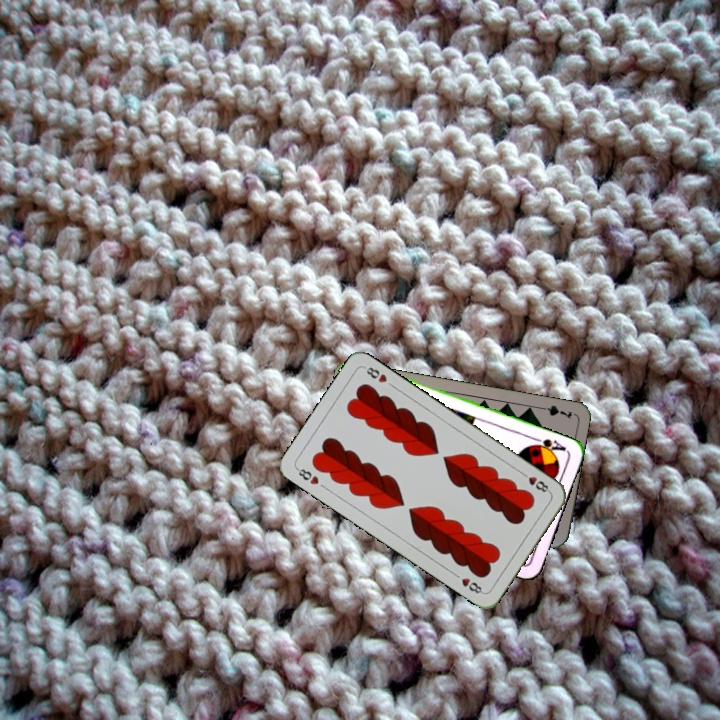G7: (534, 401, 575, 422)
H8: (517, 468, 553, 495), (292, 464, 322, 487)
SA: (528, 434, 569, 457)
